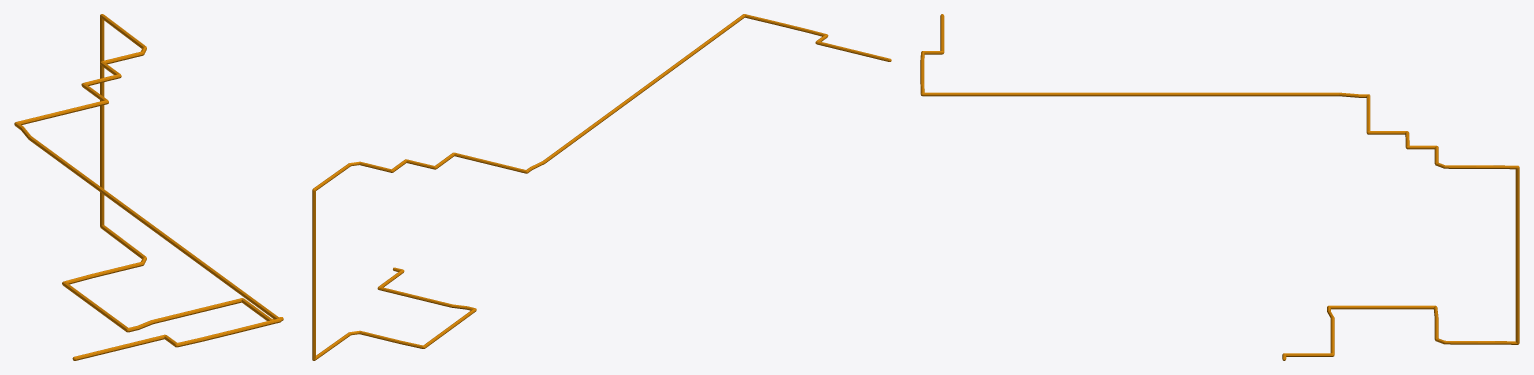
3 views of the same model, side by side, from view 1: azimuth 30°, elevation 25°; view 2: azimuth 150°, elevation 25°; view 3: azimuth 270°, elevation 25° (orthographic). The views are drawn at different scales.
Size of the model in its own units: 2067 by 1020 by 3092.
